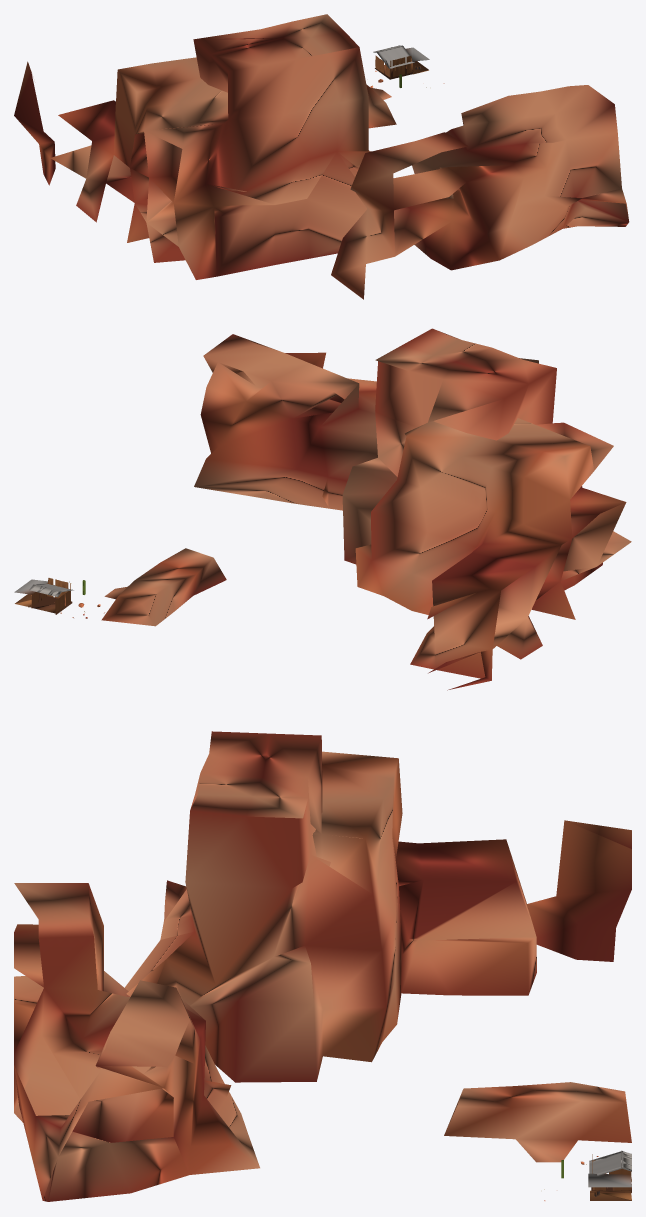
The picture shows the model from 3 angles, top to bottom: view 1: azimuth 30°, elevation 25°; view 2: azimuth 150°, elevation 25°; view 3: azimuth 270°, elevation 25°; orthographic projection. The views are drawn at different scales.
Visible parts, largest first — view 1: scene.l1.1.2 (×2); view 2: scene.l1.1.2 (×2); view 3: scene.l1.1.2 (×2).
Boxes of the visible parts, x1,y1,x2,y2 form: scene.l1.1.2 (×2): (14,14,629,299); scene.l1.1.2 (×2): (14,328,631,690); scene.l1.1.2 (×2): (14,731,631,1201).
Bounding box in the file's own units: 125 × 57.04 × 125.
